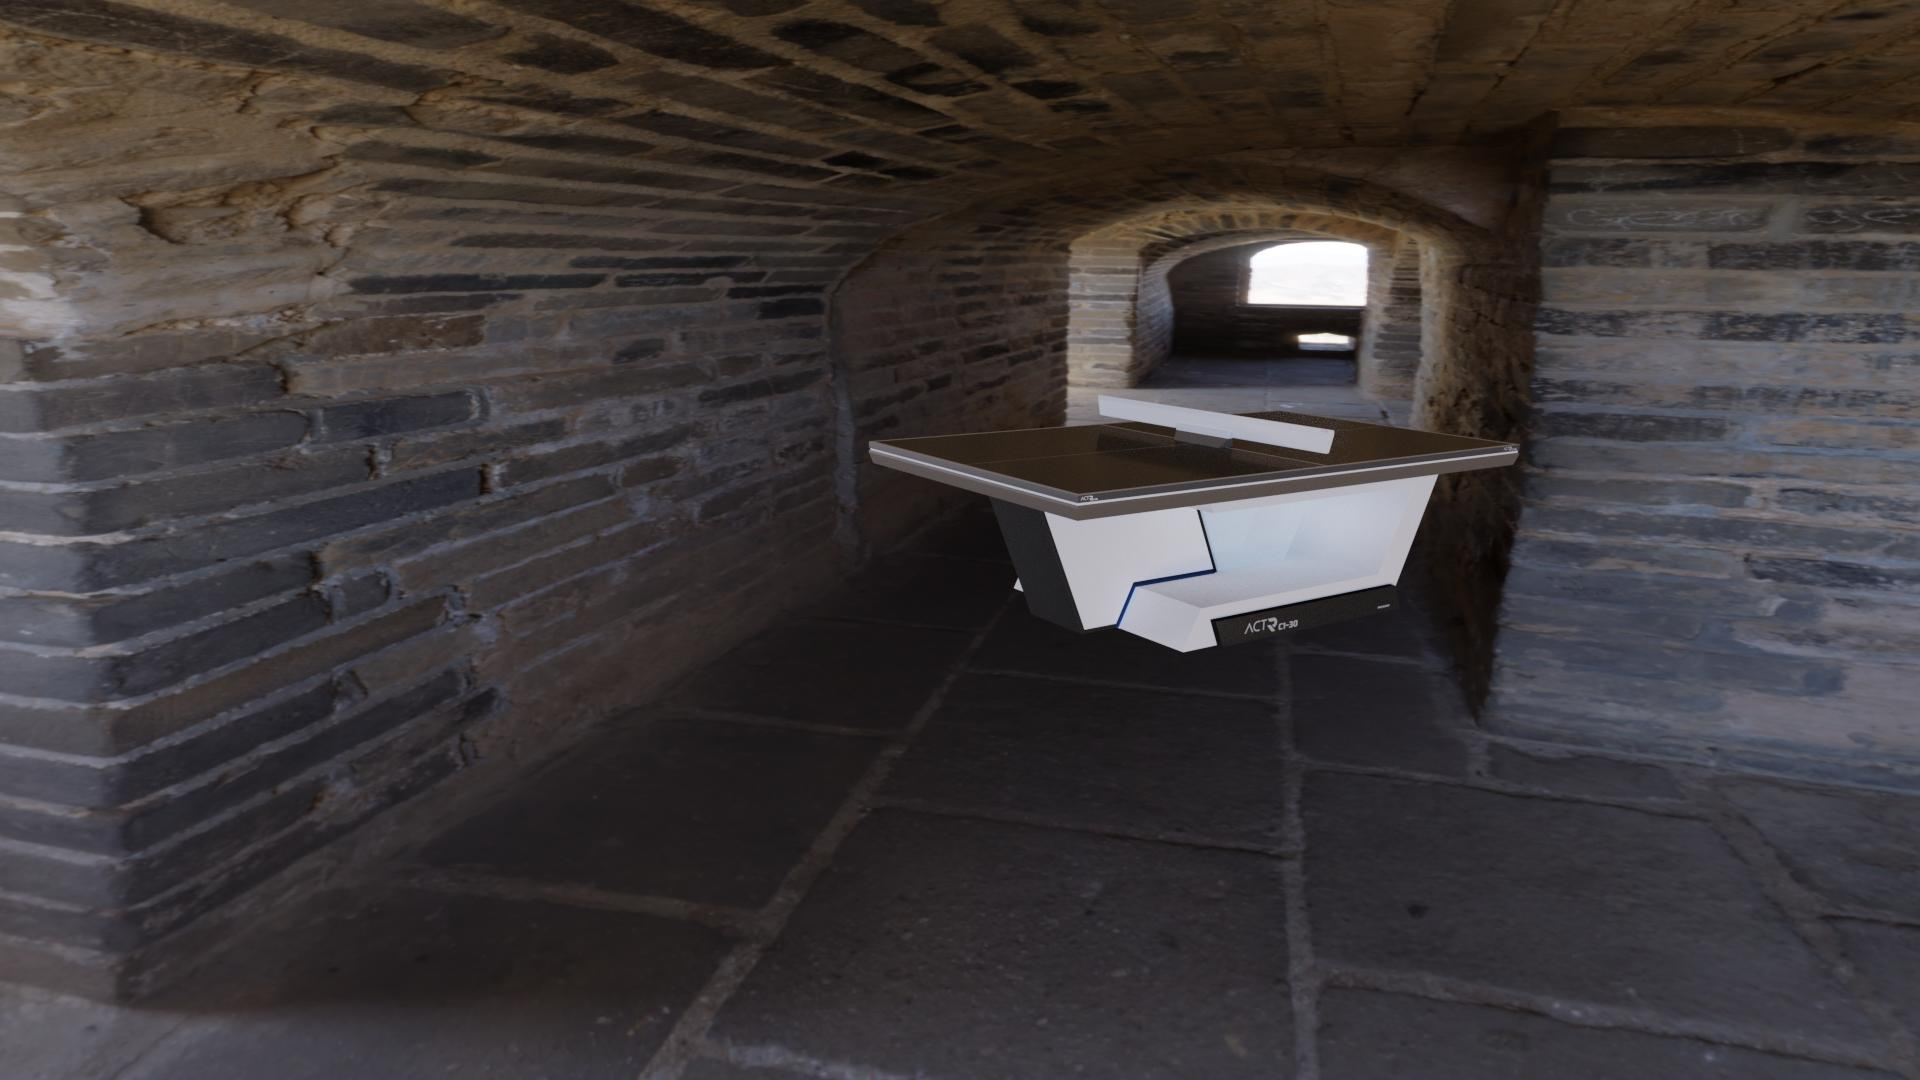table: (874, 411, 1514, 495)
